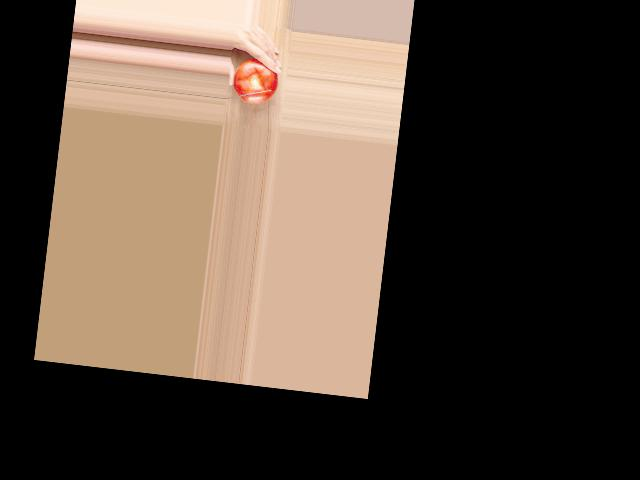tomato: (231, 56, 280, 106)
